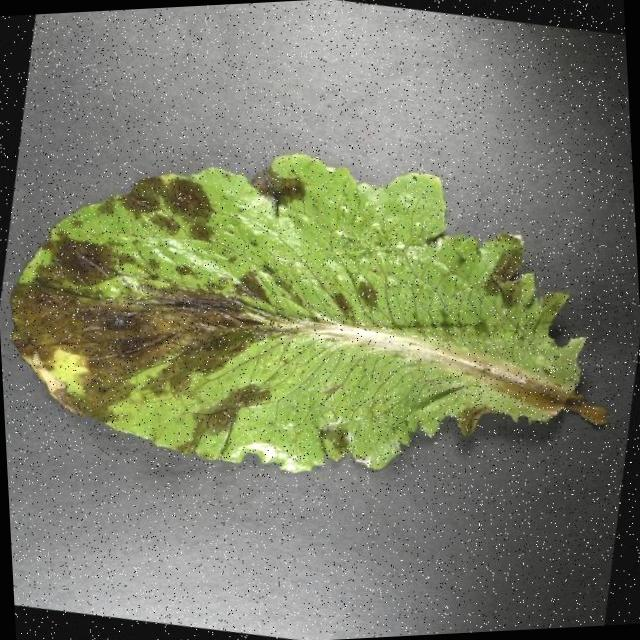Septoria_Blight_on_lettuce: (0, 136, 597, 516)
